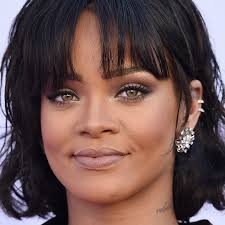e.other: (124, 85, 139, 100)
